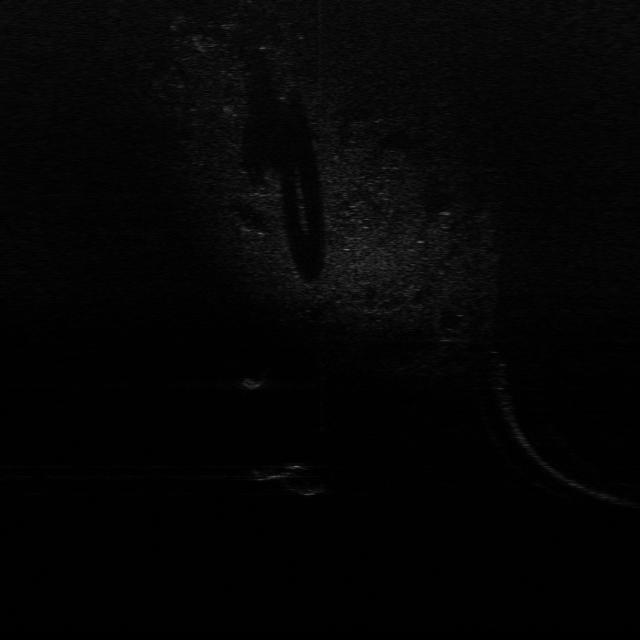cube: (244, 460, 282, 482)
square cage: (237, 372, 268, 392)
tyre: (276, 460, 328, 498)
